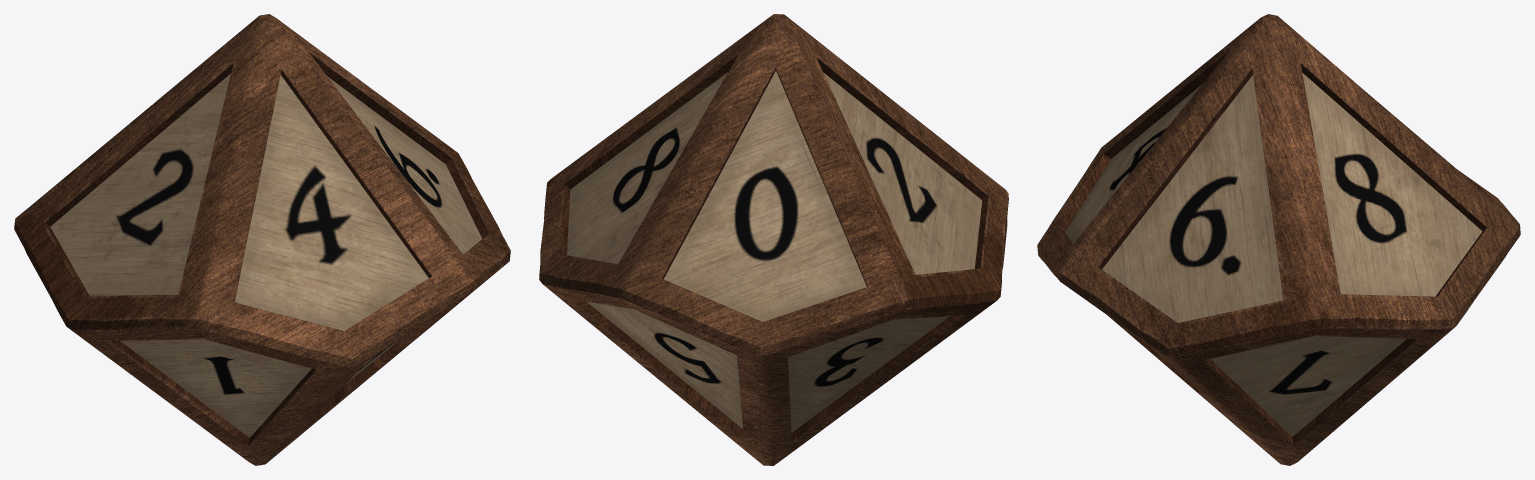
3 renders of one model, left to right at view 1: azimuth 30°, elevation 25°; view 2: azimuth 150°, elevation 25°; view 3: azimuth 270°, elevation 25°, orthographic. The views are drawn at different scales.
Parts seen in each view (by area): view 1: pPlatonic7; view 2: pPlatonic7; view 3: pPlatonic7.
Part boxes in pixels (x1=…): pPlatonic7: x1=14, y1=14, x2=510, y2=465; pPlatonic7: x1=539, y1=14, x2=1008, y2=465; pPlatonic7: x1=1037, y1=14, x2=1520, y2=465.
Bounding box in the file's own units: 1.67 × 1.69 × 1.67.
